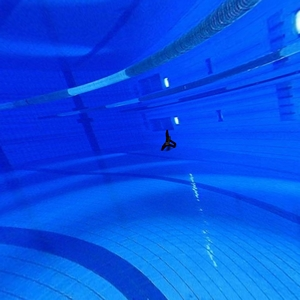submarine: (156, 126, 182, 154)
